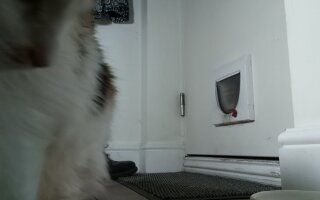bad: (2, 3, 126, 195)
